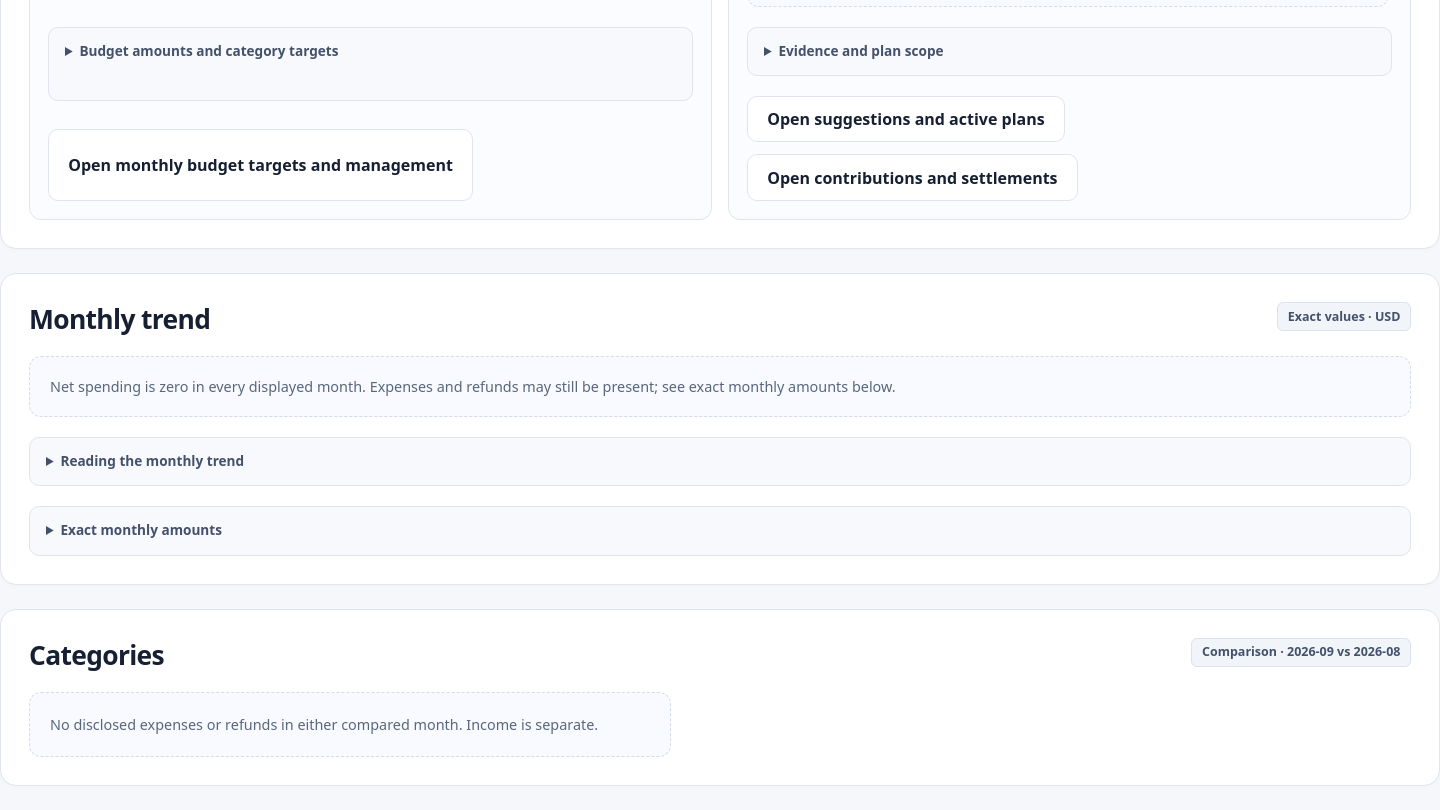
Test: household insights interactions › replaces an all-zero net chart with a compact state while retaining nonzero expense and refund evidence
(page scrolled)
Click the heading "Exact monthly amounts" at (141, 530), box [60,520,222,539]
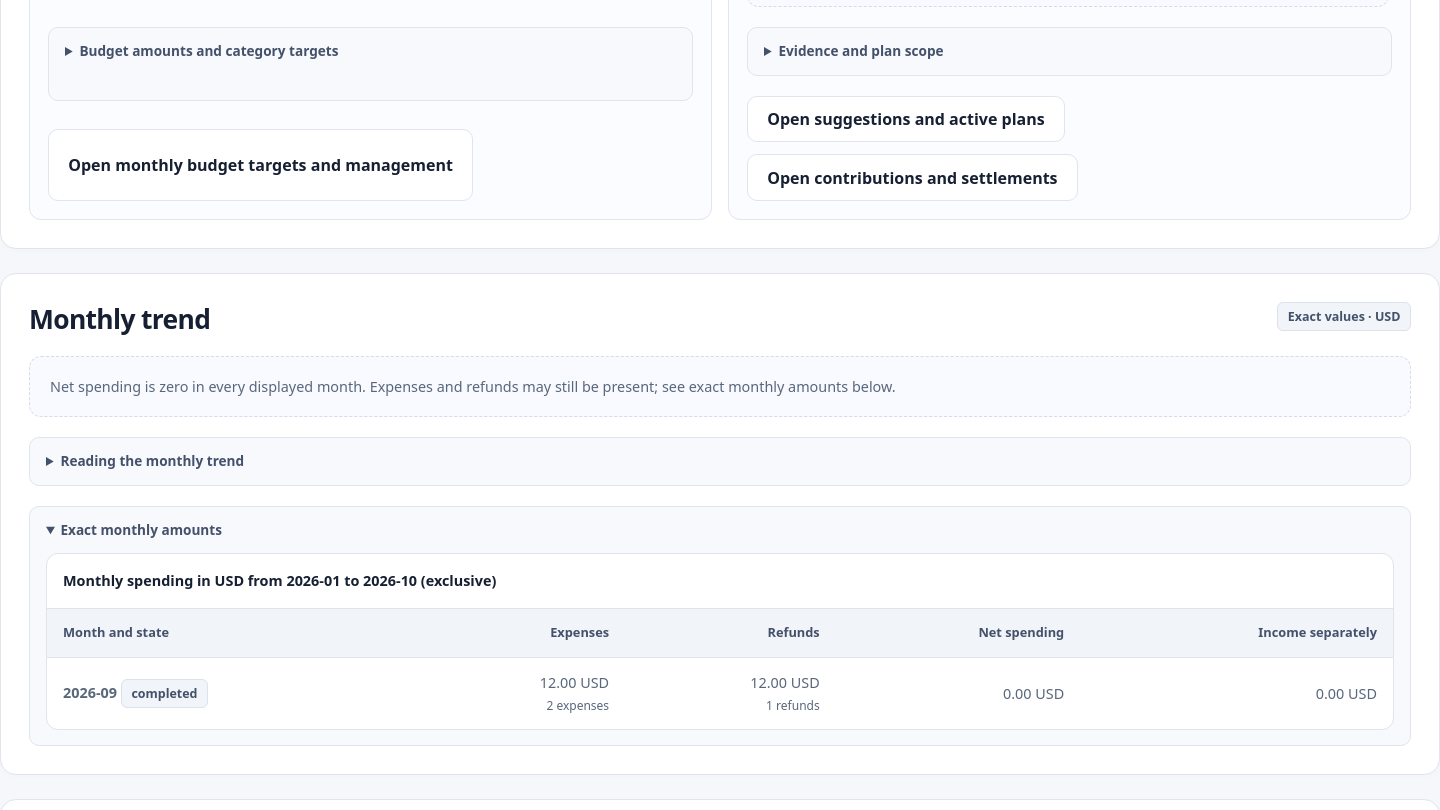
Expected: the table "Monthly spending in USD" is shown, [47,554,1393,729]
Expected: the text "2 expenses" is shown, [546,697,609,714]
Expected: the text "1 refunds" is shown, [766,697,820,714]
